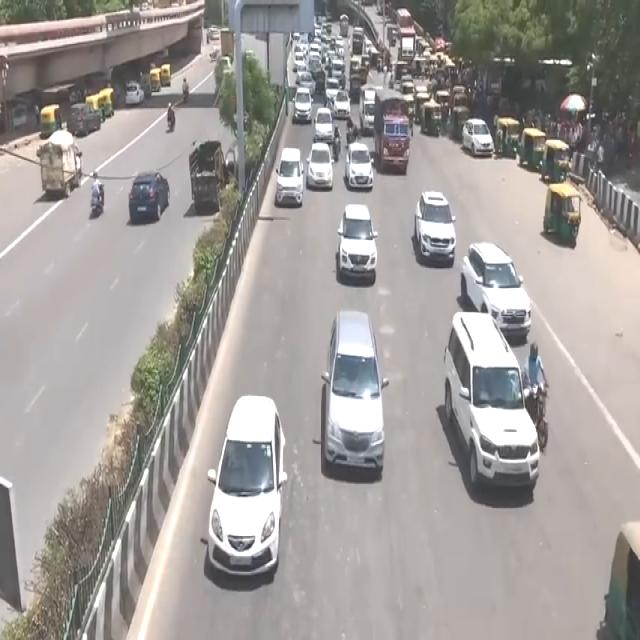TRUCK: (371, 90, 408, 175)
